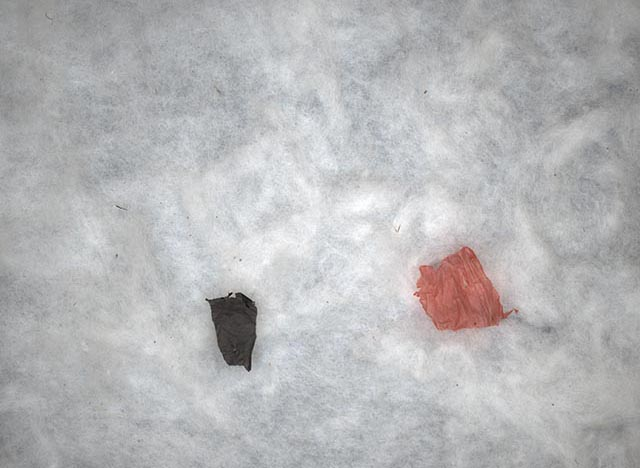plastic film: (411, 247, 518, 331), (205, 293, 257, 372)
